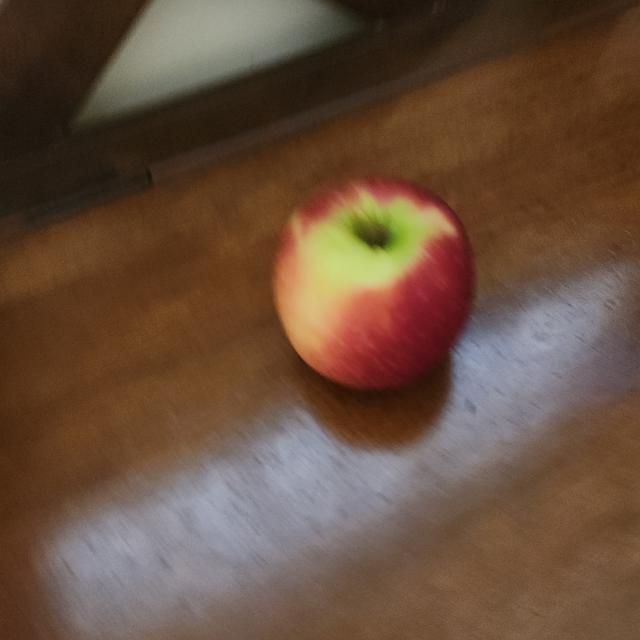apple: (258, 166, 480, 404)
